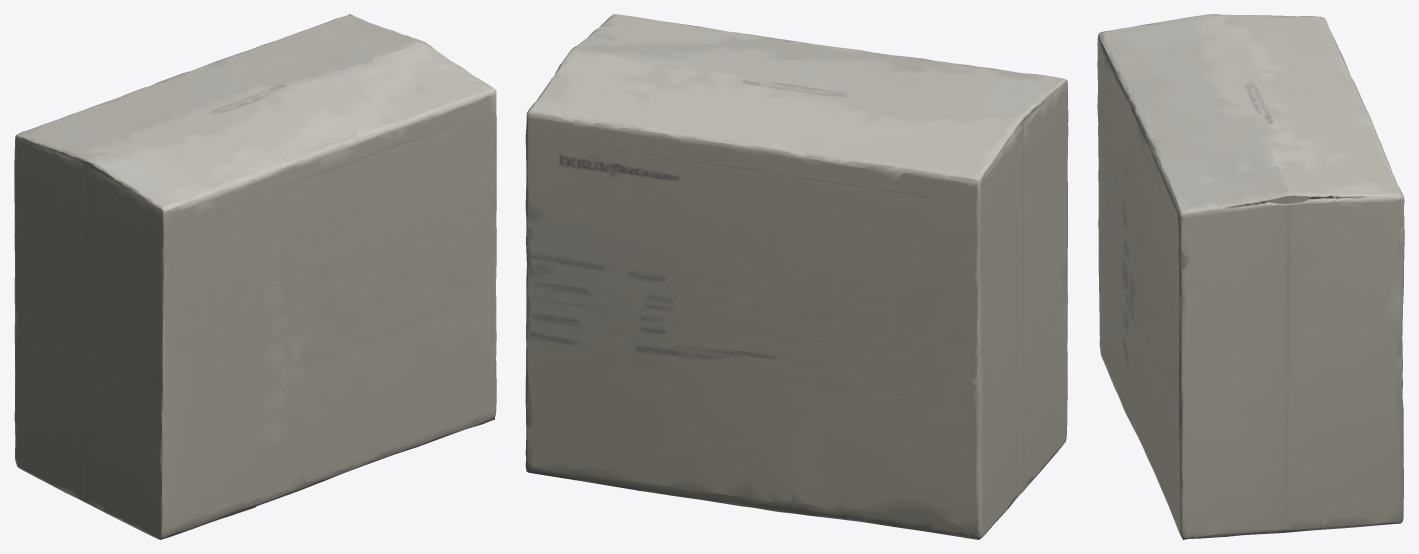
Rendered from 0007_mask_008_beige_box.glb.
3 views of the same model, side by side, from view 1: azimuth 30°, elevation 25°; view 2: azimuth 150°, elevation 25°; view 3: azimuth 270°, elevation 25° (orthographic). The views are drawn at different scales.
Parts seen in each view (by area): view 1: mask_008_object; view 2: mask_008_object; view 3: mask_008_object.
Part boxes in pixels (x1=…): mask_008_object: x1=14, y1=14, x2=496, y2=539; mask_008_object: x1=525, y1=14, x2=1068, y2=539; mask_008_object: x1=1097, y1=14, x2=1404, y2=539.
Size of the model in its own units: 0.268 by 0.2157 by 0.1765.
